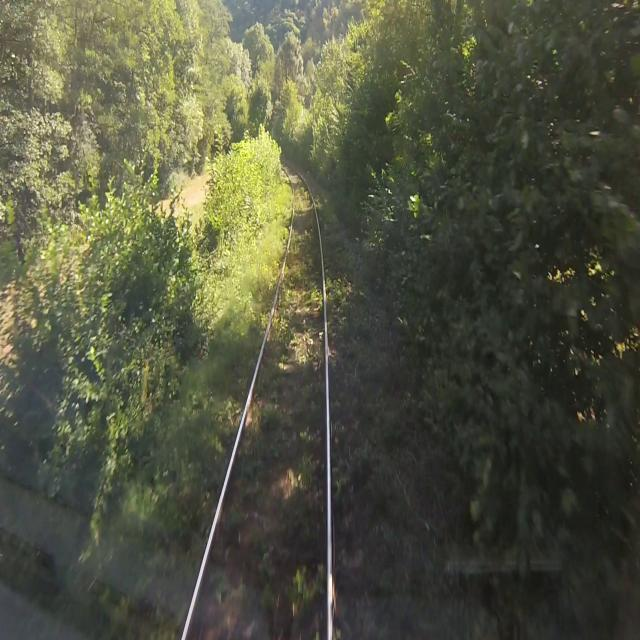Plant: (324, 264, 379, 639), (224, 171, 293, 395), (122, 495, 215, 639), (177, 393, 242, 507), (270, 448, 322, 548), (269, 280, 323, 343), (238, 443, 281, 518), (283, 555, 325, 625), (212, 567, 253, 636), (277, 318, 323, 372), (250, 532, 276, 617), (249, 399, 284, 453), (282, 249, 314, 290), (287, 218, 314, 258), (294, 182, 316, 215), (226, 508, 249, 532), (298, 421, 315, 439), (314, 193, 322, 213)
